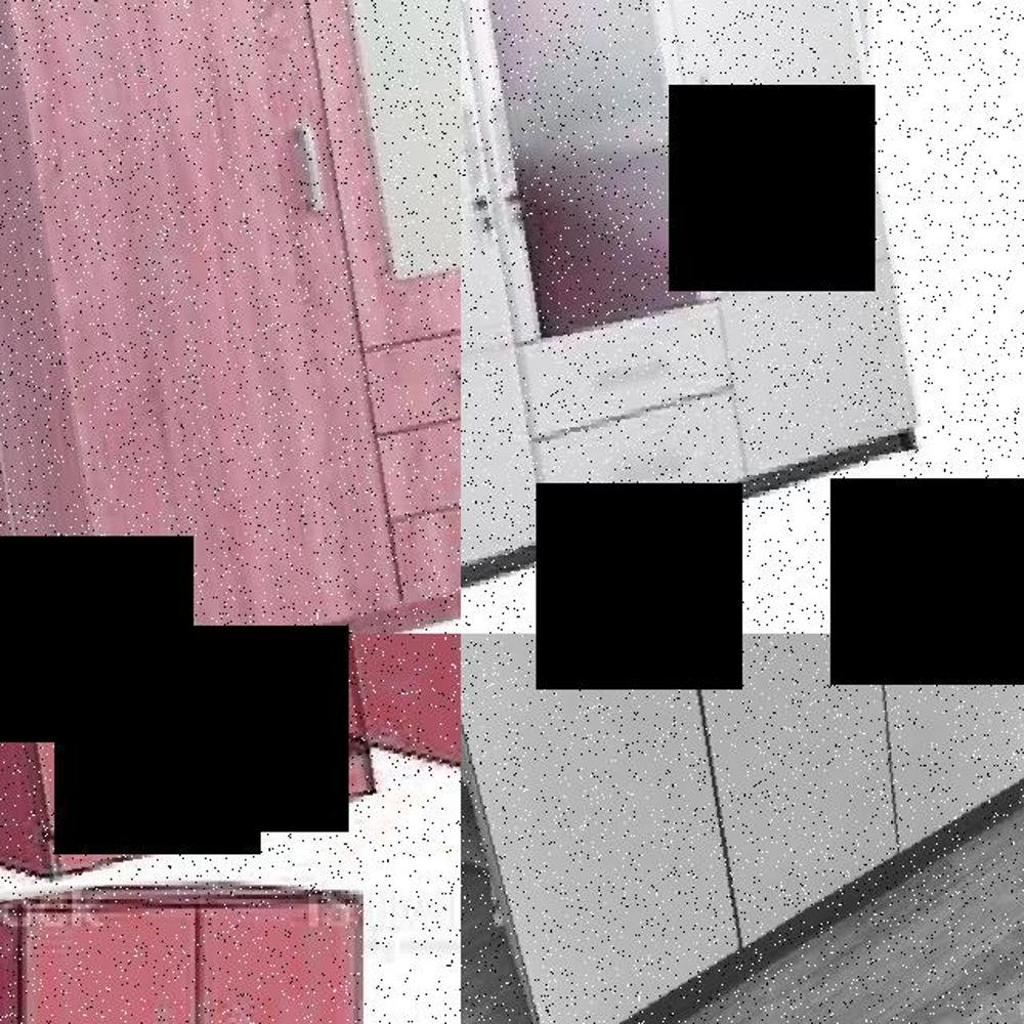cabinet: (0, 0, 461, 634), (461, 0, 910, 627), (461, 634, 1024, 1024), (0, 634, 461, 888), (0, 888, 400, 1024)
